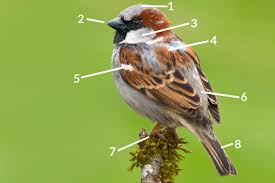hsparrow: (107, 1, 249, 179)
